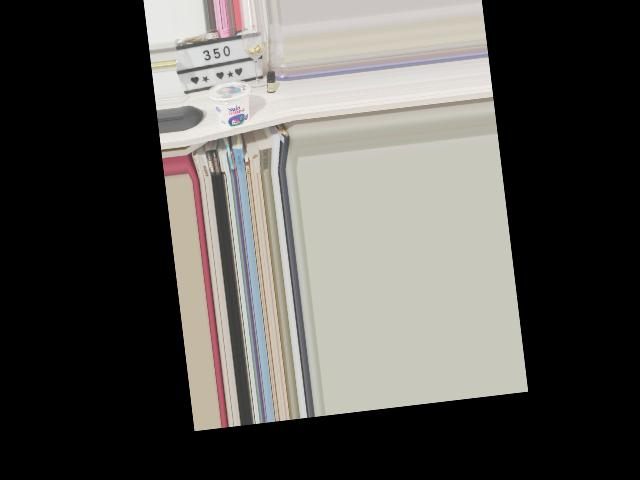cotage: (210, 78, 252, 131)
